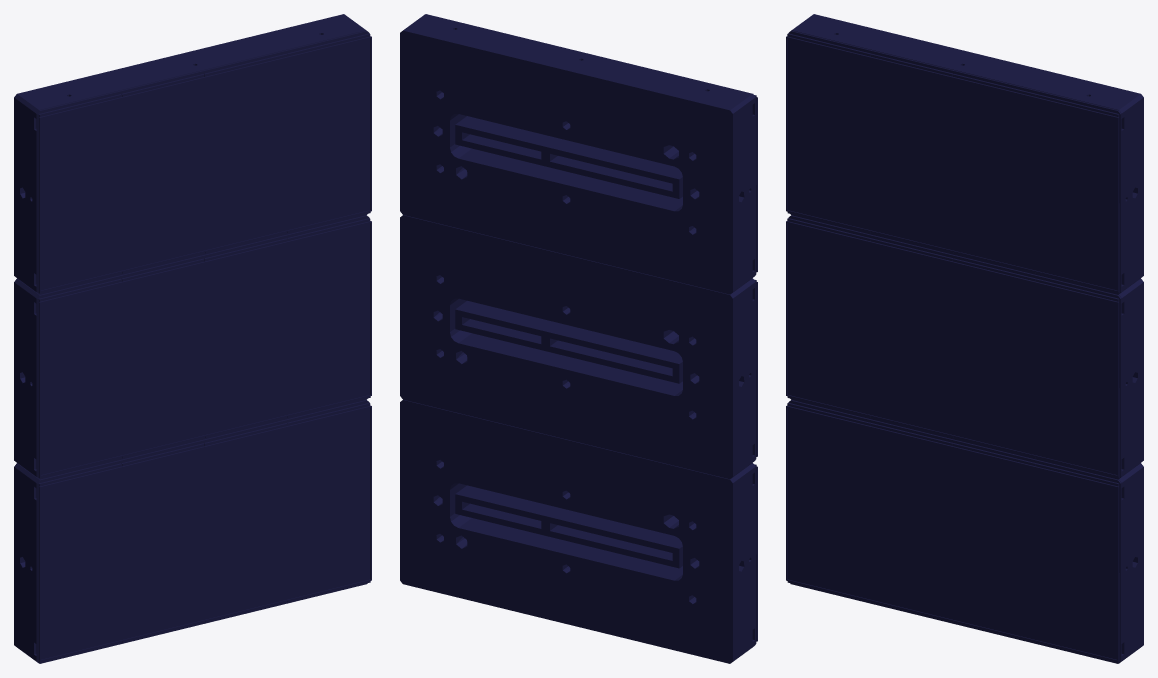
Rendered from detector_1.5M_modules_90.dae.
The picture shows the model from 3 angles, left to right: view 1: azimuth 30°, elevation 25°; view 2: azimuth 150°, elevation 25°; view 3: azimuth 330°, elevation 25°; orthographic projection.
Parts seen in each view (by area): view 1: node0; view 2: node0; view 3: node0.
Part boxes in pixels (bbox=[...]): node0: bbox=[14, 14, 371, 663]; node0: bbox=[400, 14, 757, 663]; node0: bbox=[786, 14, 1143, 663].
Bounding box in the file's own units: 0.0778 × 0.0103 × 0.1237.
